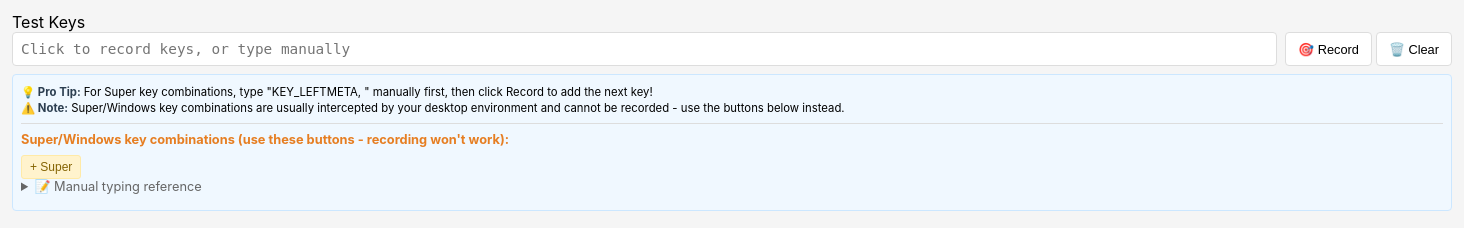
Test: KeyRecorder › starts recording when record button is clicked
Click the button "🎯 Record": point(1328, 49) [1285,32,1372,66]
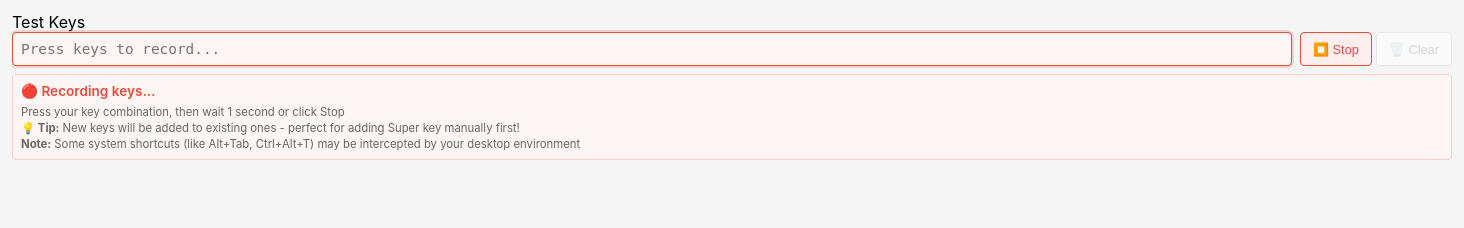
Check: the button "⏹️ Stop" is shown, box [1300,32,1372,66]
Check: the text "🔴 Recording keys..." is shown, box [21,83,155,99]
